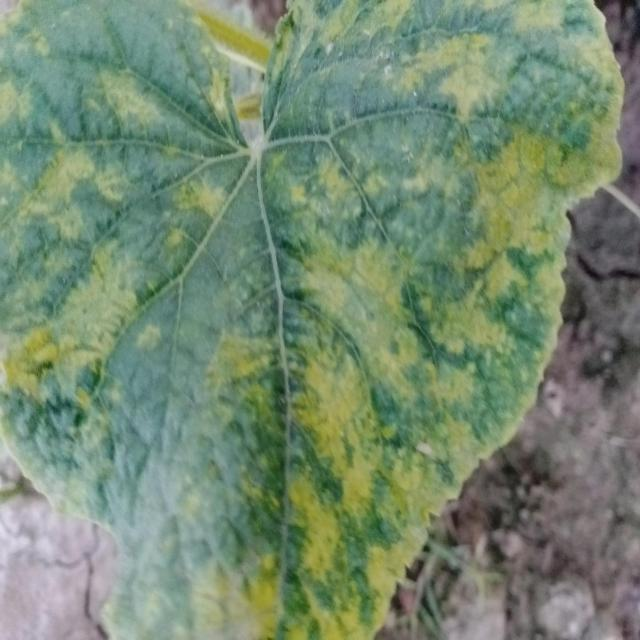cucumber_downy: (2, 0, 623, 640)
